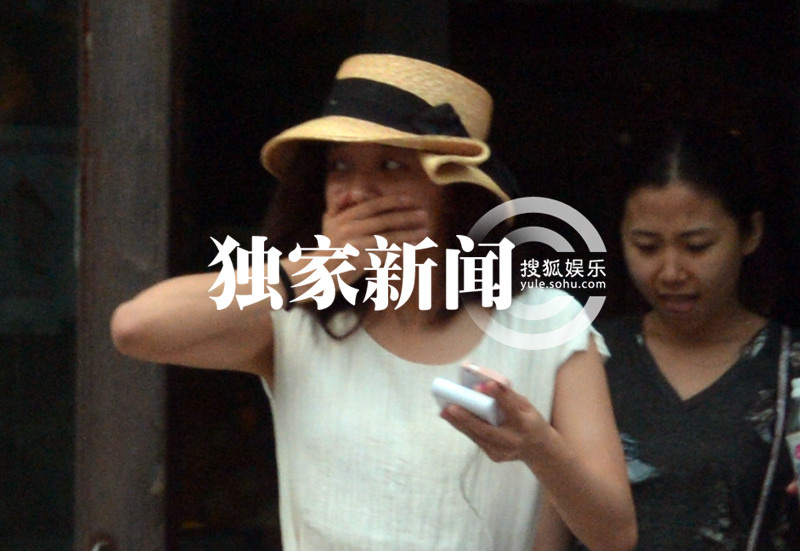face: (621, 184, 745, 324), (324, 142, 434, 271)
